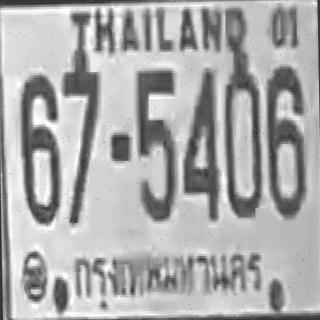N00: (222, 65, 260, 216)
N04: (180, 66, 218, 217)
N05: (134, 68, 176, 219), (134, 67, 175, 157)
N06: (18, 74, 60, 224), (265, 63, 305, 217)
P04: (70, 242, 265, 304)
